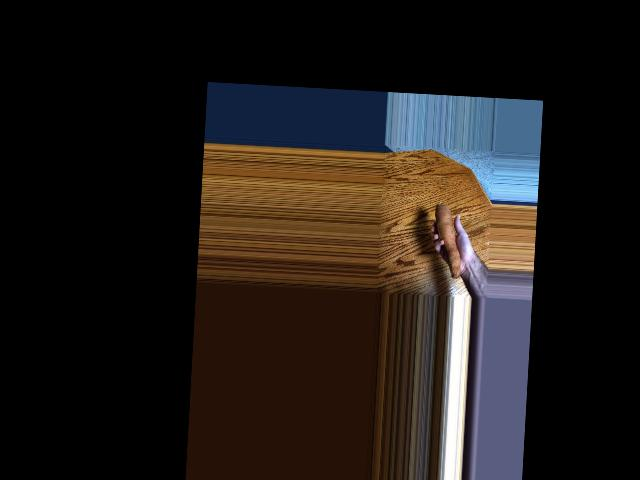sweet_potato: (428, 203, 464, 286)
